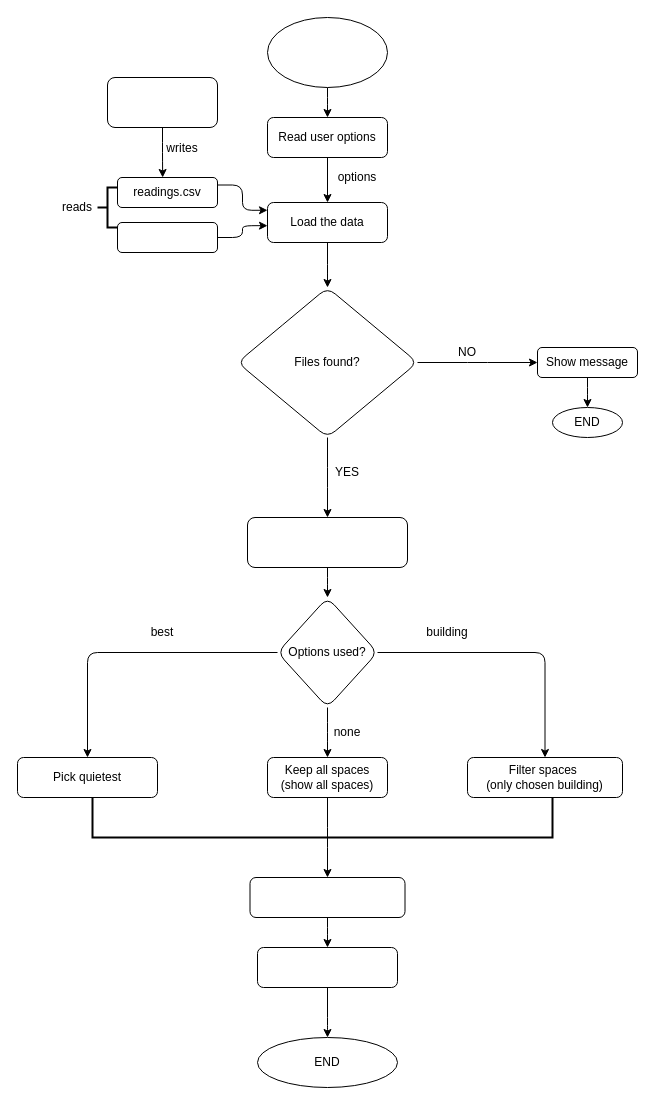
Image size: 655x1105. Some labels were removed from this diagram. The shapes that lost their labels are listed below. From the top down, each one's centre as x and y in pixels, then its label:
At (x=327, y=52): "START : main.py".
At (x=162, y=102): "Seed Script".
At (x=167, y=237): "spaces.json".
At (x=327, y=542): "Work out Status (Quiet, Filling up, Full)".
At (x=327, y=897): "Find busiest times (Average count per hour)".
At (x=327, y=967): "Print the result (List, status, busy hours)".
